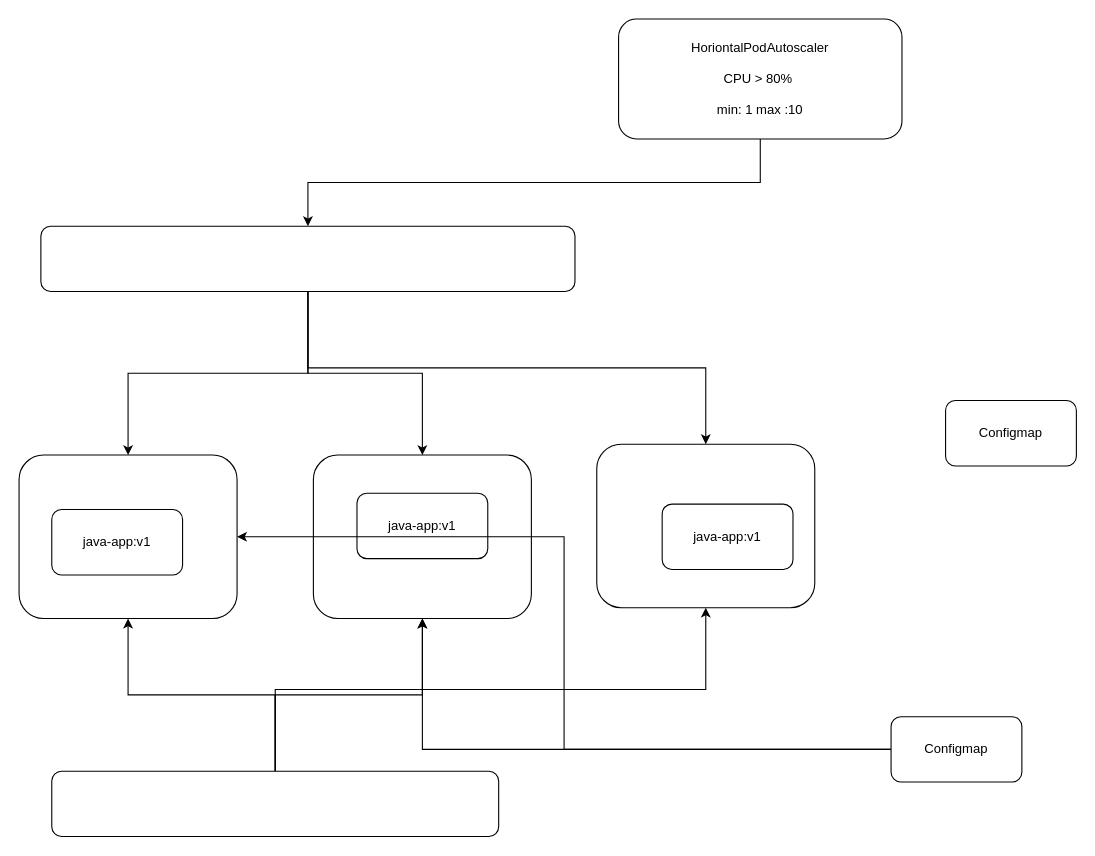
This 1095x856 diagram has some shape labels left out. Here are the shapes that lost their labels. From the top down, the centre of each, then its label:
At pixel 307 258: "Deployments replicas=3".
At pixel 275 803: "Service".
